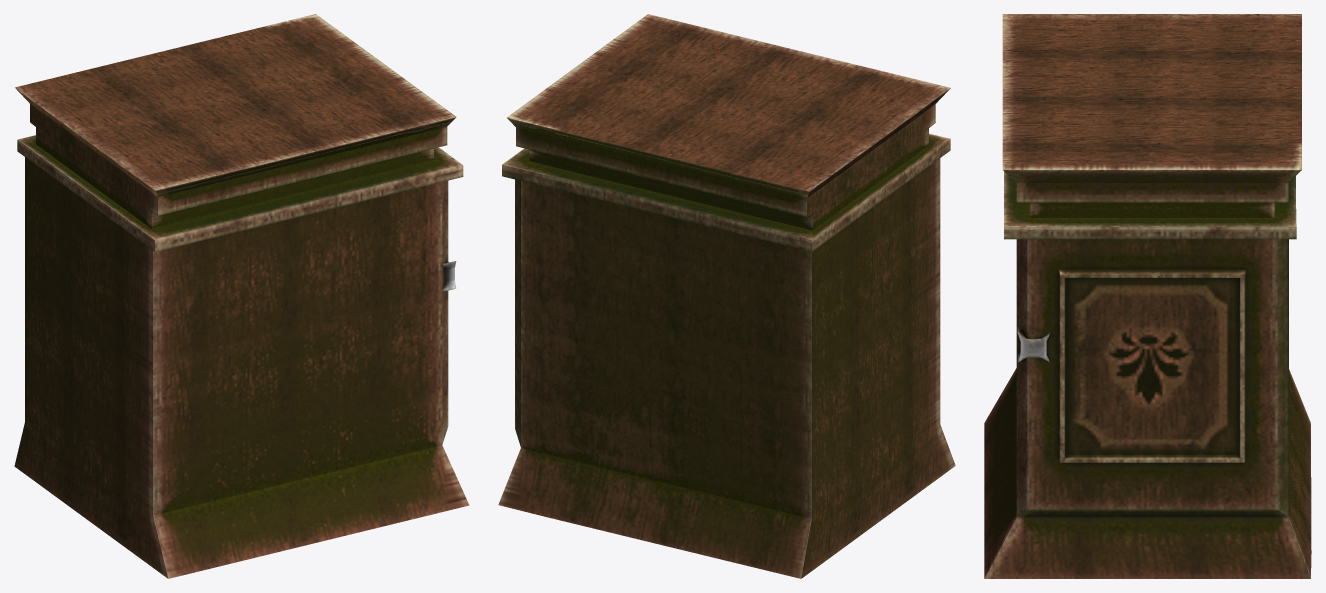
The model's file is cabinetSmall1.fbx.
3 renders of one model, left to right at view 1: azimuth 30°, elevation 25°; view 2: azimuth 150°, elevation 25°; view 3: azimuth 270°, elevation 25°, orthographic. The views are drawn at different scales.
Visible parts, largest first — view 1: cabinetSmall1; view 2: cabinetSmall1; view 3: cabinetSmall1.
Boxes of the visible parts, x1=… form: cabinetSmall1: x1=14, y1=14, x2=469, y2=578; cabinetSmall1: x1=498, y1=14, x2=955, y2=578; cabinetSmall1: x1=984, y1=14, x2=1311, y2=578.
Bounding box in the file's own units: 64.21 × 75.77 × 55.21.
